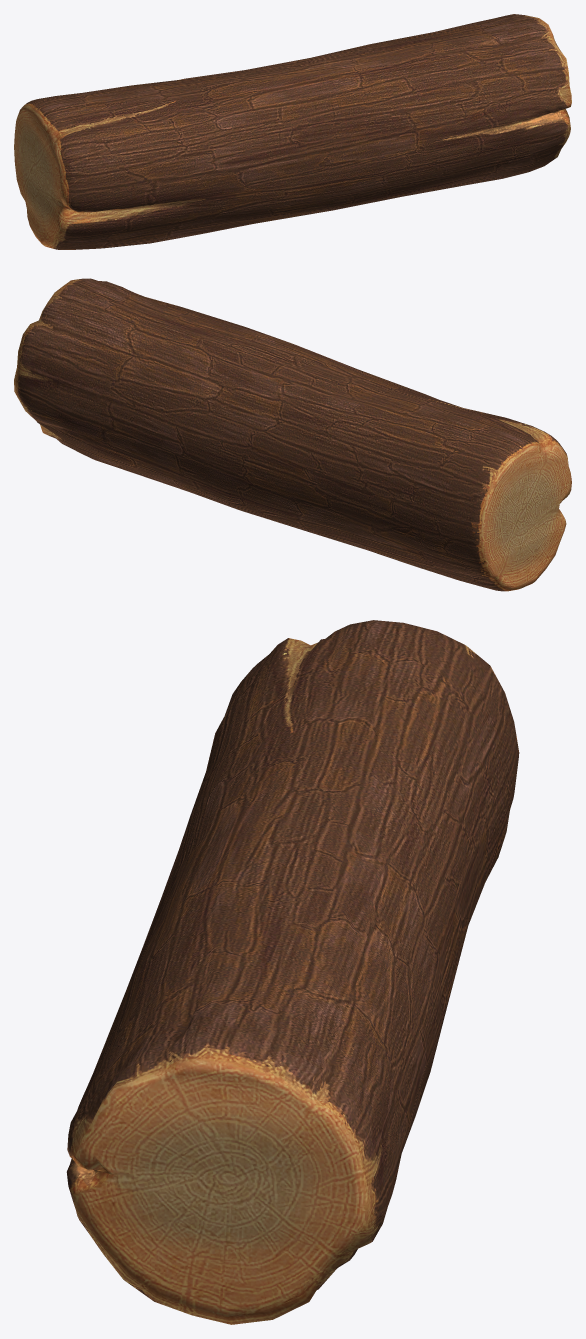
File: log.fbx
3 views of the same model, one above another, from view 1: azimuth 30°, elevation 25°; view 2: azimuth 150°, elevation 25°; view 3: azimuth 270°, elevation 25° (orthographic). The views are drawn at different scales.
Parts seen in each view (by area): view 1: node_id30; view 2: node_id30; view 3: node_id30.
Boxes of the visible parts, x1,y1,x2,y2 form: node_id30: (14,14,571,249); node_id30: (14,278,571,591); node_id30: (66,620,519,1324).
Bounding box in the file's own units: 0.493 × 0.1463 × 0.1991.
1 material, 1 textured.
